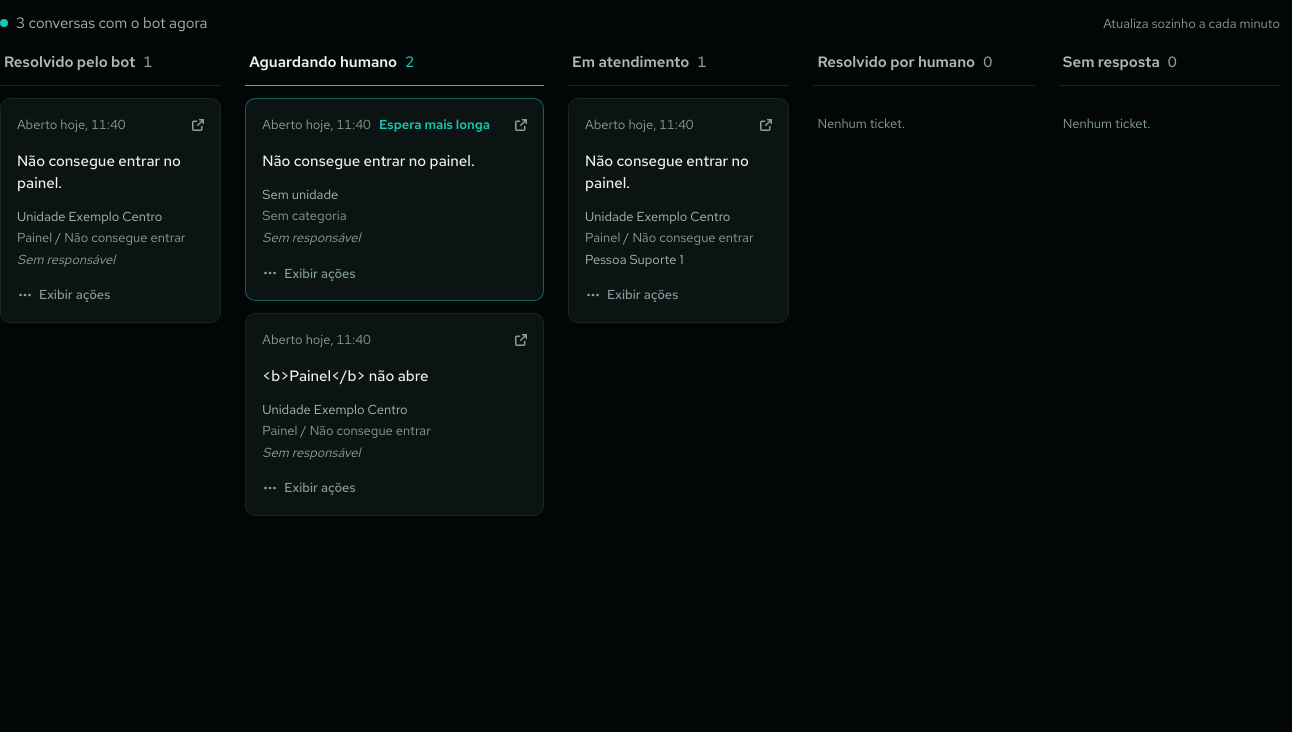
BoardView › asks before resolving a ticket and does nothing when cancelled
Click the button "Exibir ações" below "Pessoa Suporte 1" at point(632, 295), box [577,281,686,309]
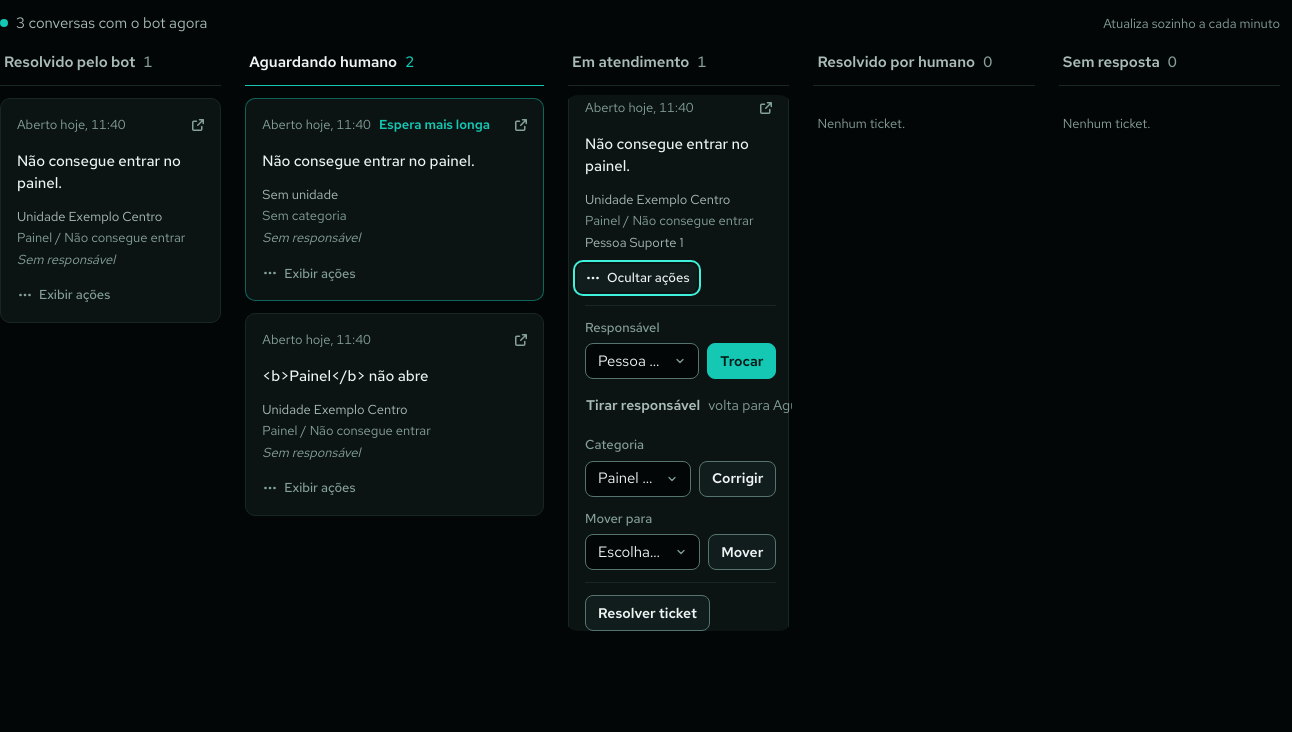
Click the button "Resolver ticket" at point(648, 613), box [585,595,710,631]
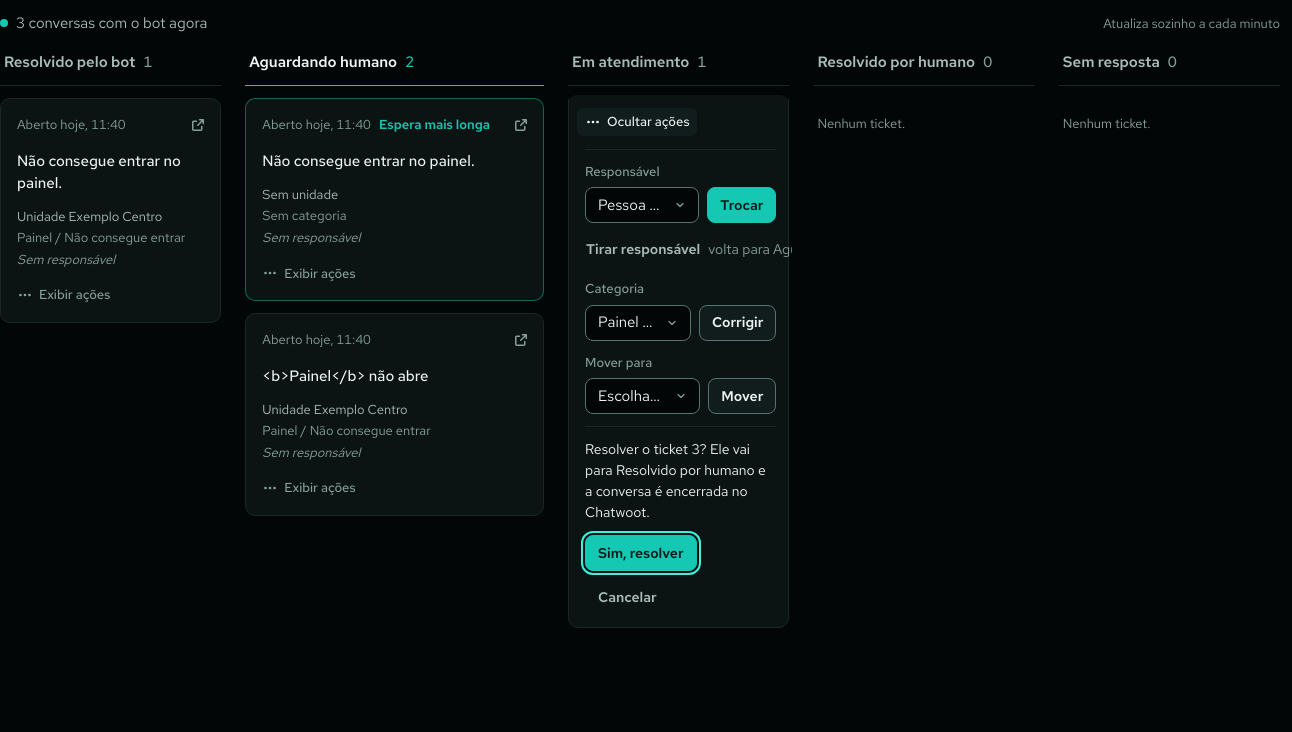
Click the button "Cancelar" at point(627, 597), box [585,579,670,615]
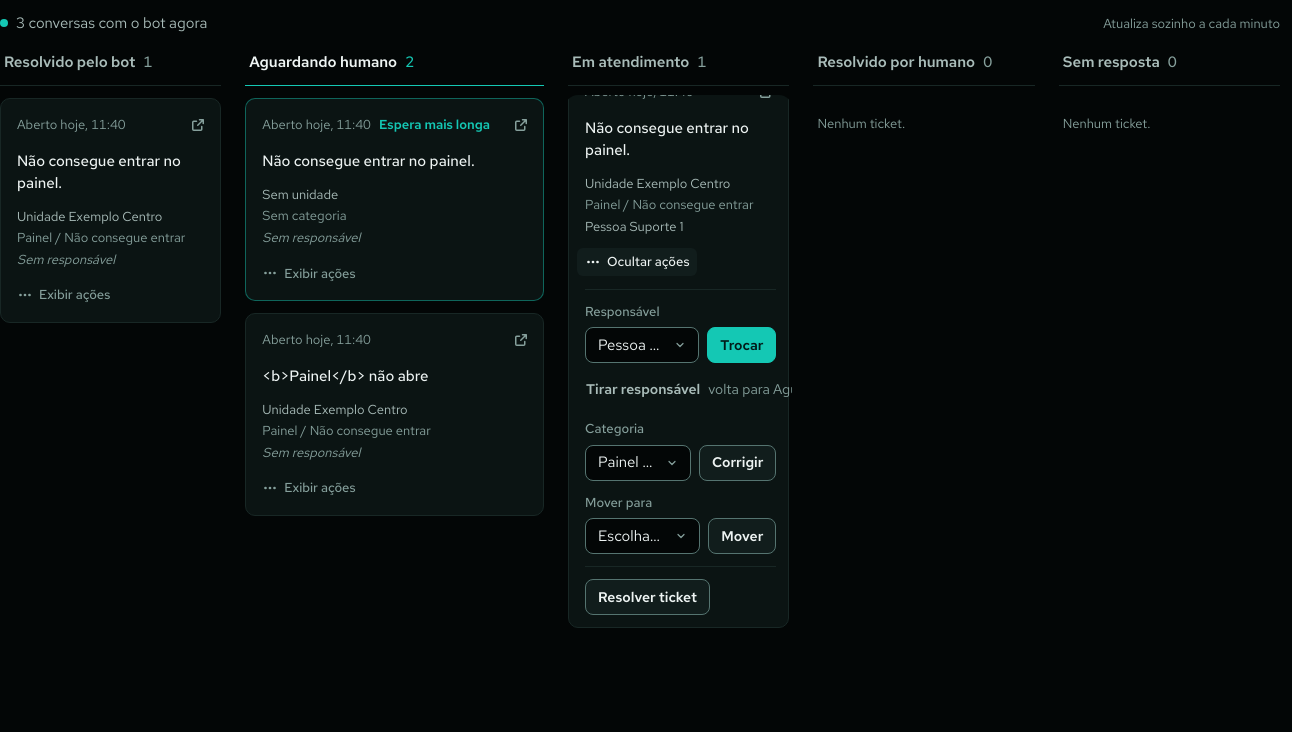
Now the button "Resolver ticket" is shown, box [585,579,710,615]
